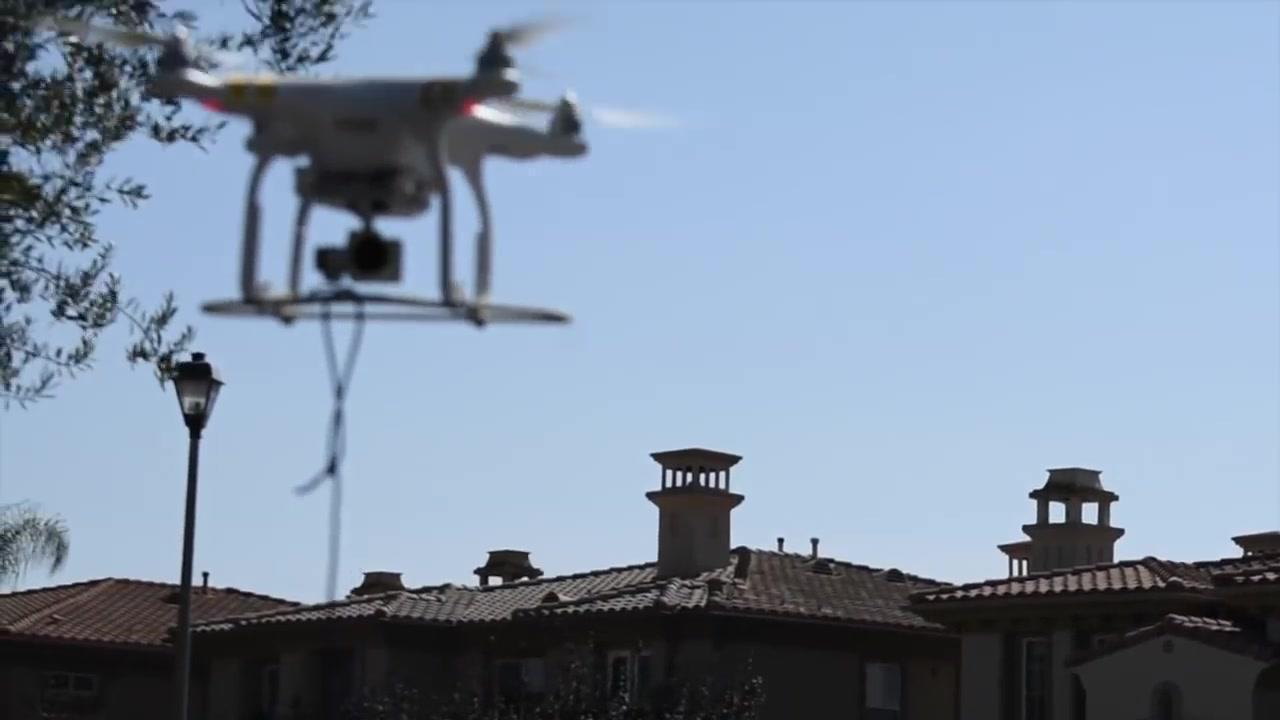UAV: (23, 1, 680, 329)
